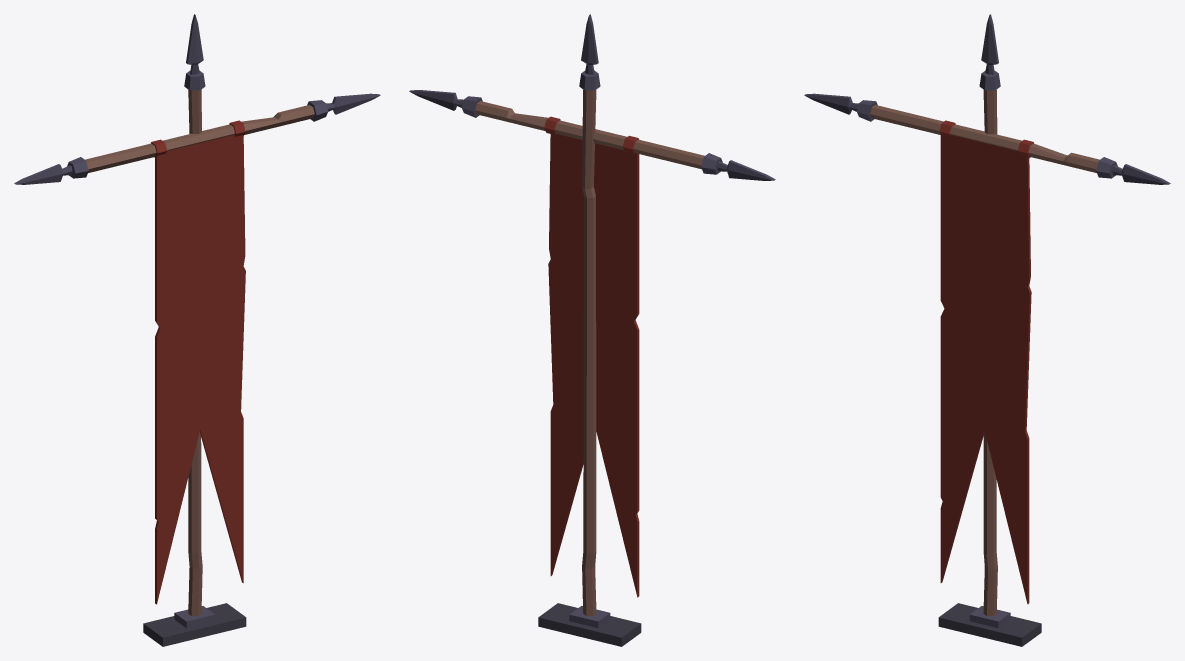
The model's file is banner.glb.
3 renders of one model, left to right at view 1: azimuth 30°, elevation 25°; view 2: azimuth 150°, elevation 25°; view 3: azimuth 330°, elevation 25°, orthographic.
Visible parts, largest first — view 1: Banner; view 2: Banner; view 3: Banner.
Boxes of the visible parts, x1,y1,x2,y2 form: Banner: [14, 14, 380, 646]; Banner: [409, 14, 775, 646]; Banner: [804, 14, 1170, 646].
Size of the model in its own units: 2.36 by 3.8 by 0.2193.
